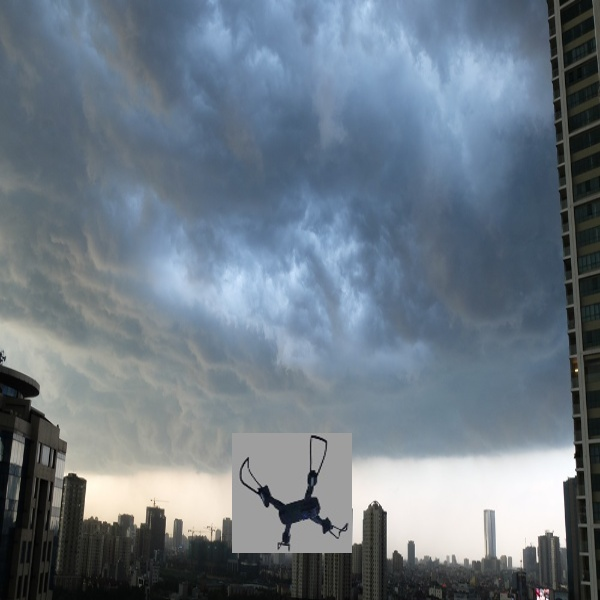drone: (235, 436, 347, 551)
